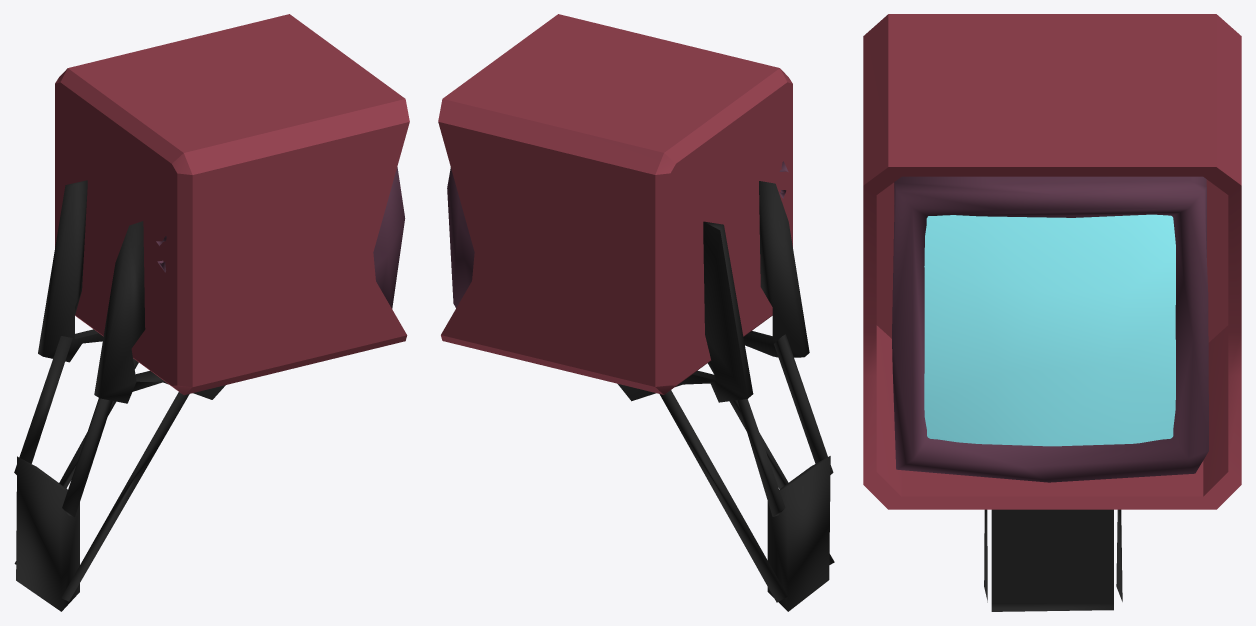
3 renders of one model, left to right at view 1: azimuth 30°, elevation 25°; view 2: azimuth 150°, elevation 25°; view 3: azimuth 270°, elevation 25°, orthographic. The views are drawn at different scales.
Parts seen in each view (by area): view 1: Desirefx_me_CyberProp_TVstand_PaintBlue.005, Desirefx_me_CyberProp_TVstand_PaintBlack.003, Desirefx_me_CyberProp_TVstand_PlasticBlack.004; view 2: Desirefx_me_CyberProp_TVstand_PaintBlue.005, Desirefx_me_CyberProp_TVstand_PaintBlack.003, Desirefx_me_CyberProp_TVstand_PlasticBlack.004; view 3: Desirefx_me_CyberProp_TVstand_PaintBlue.005, Desirefx_me_CyberProp_TVstand_Screens.005, Desirefx_me_CyberProp_TVstand_PlasticBlack.004, Desirefx_me_CyberProp_TVstand_PaintBlack.003.
Part boxes in pixels (x1,y1,x2,y2): Desirefx_me_CyberProp_TVstand_PaintBlue.005: [55, 14, 409, 395]; Desirefx_me_CyberProp_TVstand_PaintBlack.003: [14, 180, 225, 611]; Desirefx_me_CyberProp_TVstand_PlasticBlack.004: [156, 167, 405, 308]; Desirefx_me_CyberProp_TVstand_PaintBlue.005: [438, 14, 792, 394]; Desirefx_me_CyberProp_TVstand_PaintBlack.003: [617, 181, 834, 611]; Desirefx_me_CyberProp_TVstand_PlasticBlack.004: [447, 161, 788, 307]; Desirefx_me_CyberProp_TVstand_PaintBlue.005: [863, 14, 1241, 509]; Desirefx_me_CyberProp_TVstand_Screens.005: [924, 214, 1175, 446]; Desirefx_me_CyberProp_TVstand_PlasticBlack.004: [892, 176, 1208, 482]; Desirefx_me_CyberProp_TVstand_PaintBlack.003: [984, 509, 1122, 611].
Size of the model in its own units: 0.4247 by 0.6043 by 0.3151.
